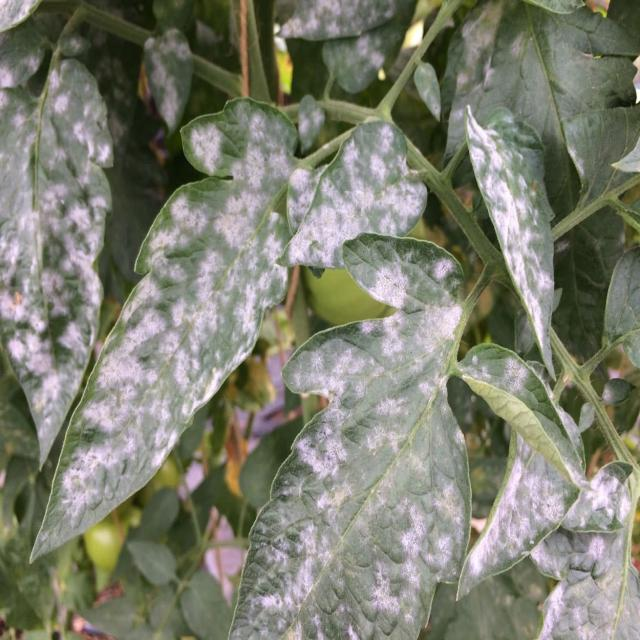Powdery Mildew: (28, 95, 429, 566), (1, 45, 114, 472), (463, 102, 557, 382), (278, 118, 428, 270)
